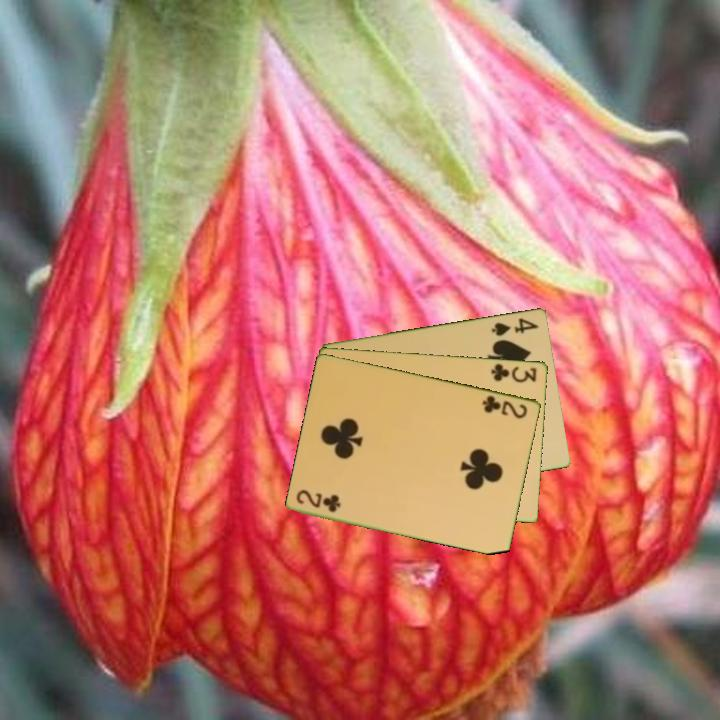2c: (479, 392, 531, 421), (293, 487, 344, 515)
3c: (488, 360, 540, 385)
4s: (488, 314, 542, 339)
